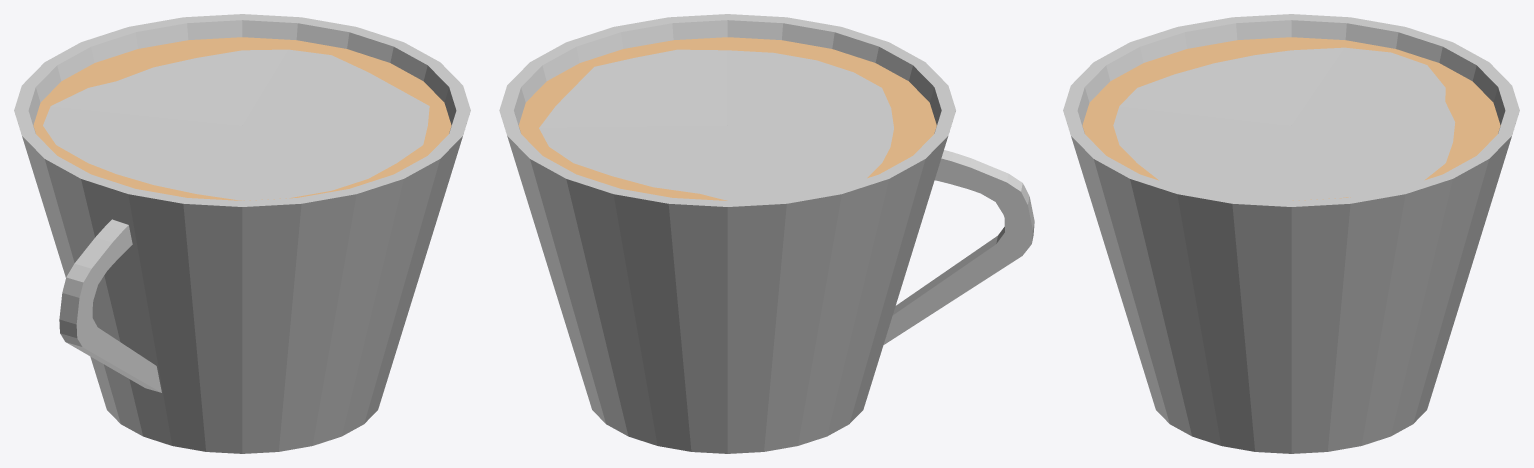
The model's file is Cappuccino.gltf.
3 renders of one model, left to right at view 1: azimuth 30°, elevation 25°; view 2: azimuth 150°, elevation 25°; view 3: azimuth 270°, elevation 25°, orthographic.
Visible parts, largest first — view 1: node-0; view 2: node-0; view 3: node-0.
Boxes of the visible parts, left/top/right/bottom form: node-0: left=14, top=14, right=470, bottom=453; node-0: left=499, top=14, right=1034, bottom=453; node-0: left=1063, top=14, right=1519, bottom=453.
Size of the model in its own units: 399791 by 245605 by 357965.
